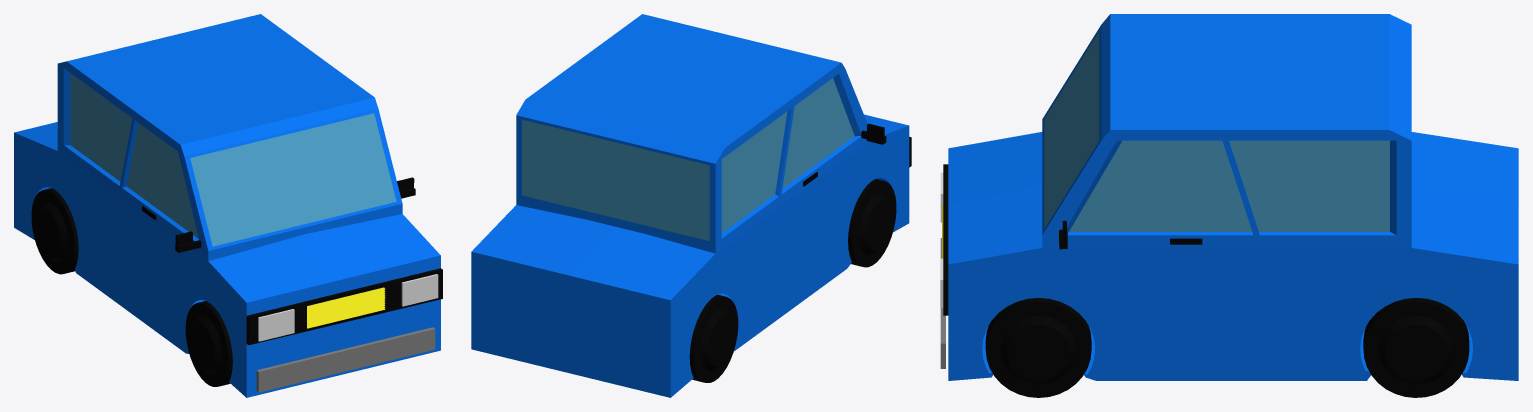
File: NPCcar2_blue.fbx
The picture shows the model from 3 angles, left to right: view 1: azimuth 30°, elevation 25°; view 2: azimuth 150°, elevation 25°; view 3: azimuth 270°, elevation 25°; orthographic projection. The views are drawn at different scales.
Parts seen in each view (by area): view 1: car02_blue; view 2: car02_blue; view 3: car02_blue.
Part boxes in pixels (left/top/right/bottom): car02_blue: left=14, top=14, right=442, bottom=397; car02_blue: left=471, top=14, right=911, bottom=397; car02_blue: left=940, top=14, right=1518, bottom=397.
Bounding box in the file's own units: 55.39 × 48.56 × 95.57.
